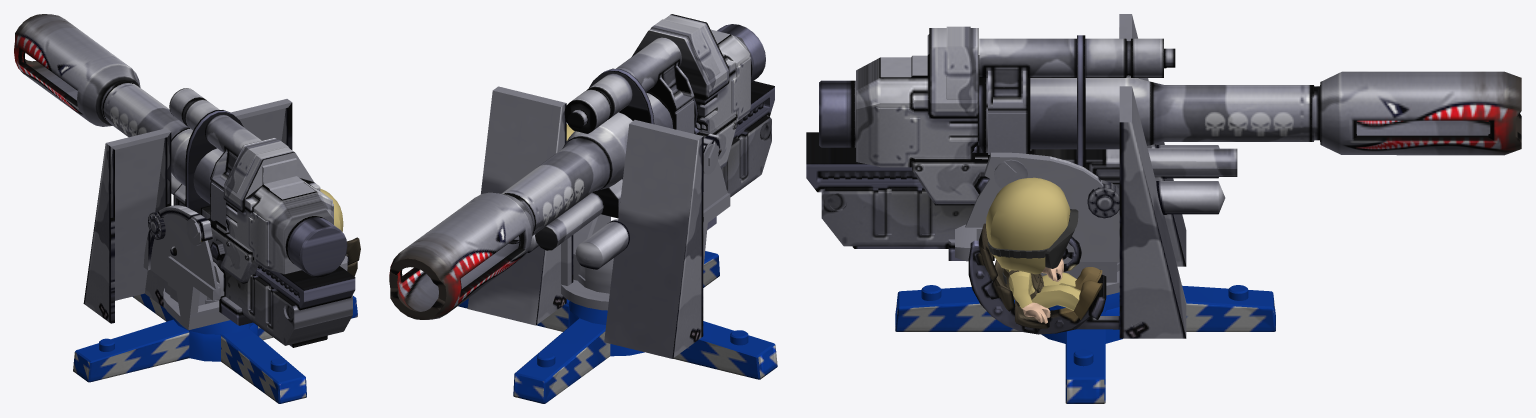
File: Cannon.fbx
3 views of the same model, side by side, from view 1: azimuth 30°, elevation 25°; view 2: azimuth 150°, elevation 25°; view 3: azimuth 270°, elevation 25° (orthographic). The views are drawn at different scales.
Parts seen in each view (by area): view 1: Cockpit, Head, Hatch, Barrel, Base; view 2: Cockpit, Barrel, Head, Base, Hatch; view 3: Cockpit, Barrel, Head, Hatch, Base.
Boxes of the visible parts, box(x1,y1,x2,y2) form: Cockpit: box(83, 99, 360, 330); Head: box(169, 88, 355, 347); Hatch: box(210, 137, 347, 283); Barrel: box(14, 14, 223, 203); Base: box(73, 293, 357, 403); Cockpit: box(467, 86, 730, 358); Barrel: box(389, 92, 673, 319); Head: box(535, 37, 774, 250); Base: box(458, 251, 777, 403); Hatch: box(632, 14, 765, 168); Cockpit: box(955, 14, 1225, 338); Barrel: box(978, 71, 1521, 155); Head: box(806, 35, 1237, 260); Hatch: box(819, 26, 989, 205); Base: box(895, 285, 1275, 403).
Bounding box in the file's own units: 268 × 223 × 504.
